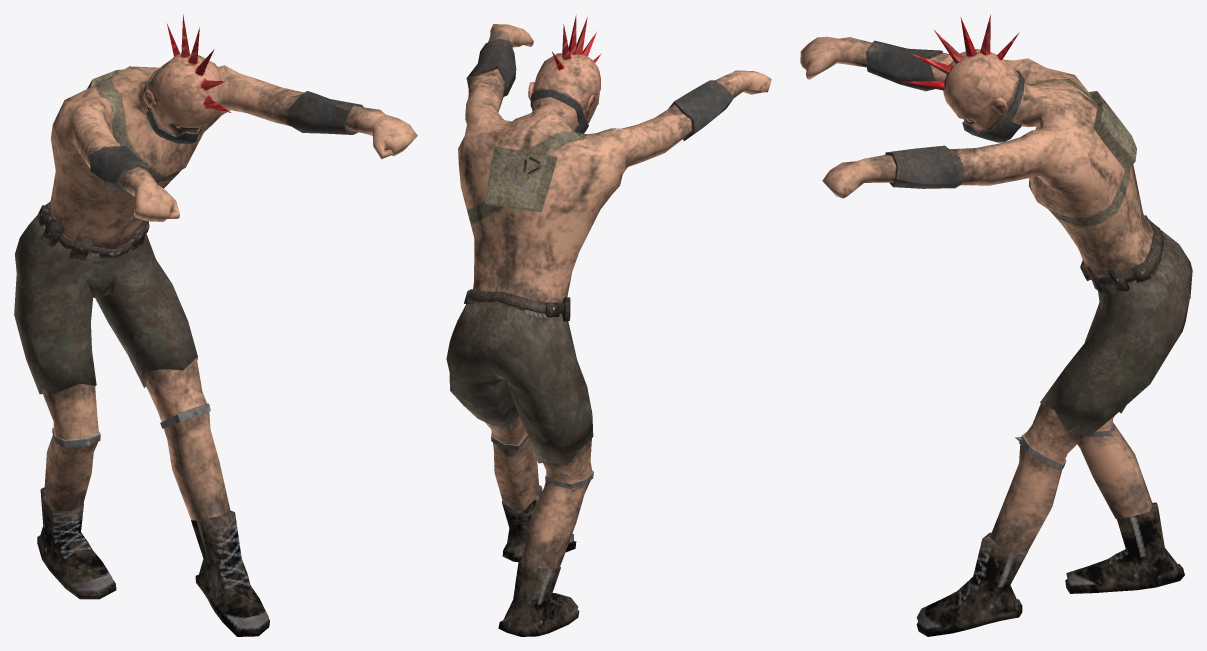
The model's file is Anim_ataque_d3_npc2.0044.obj.
The picture shows the model from 3 angles, left to right: view 1: azimuth 30°, elevation 25°; view 2: azimuth 150°, elevation 25°; view 3: azimuth 270°, elevation 25°; orthographic projection. The views are drawn at different scales.
Visible parts, largest first — view 1: polySurface1; view 2: polySurface1; view 3: polySurface1.
Part boxes in pixels (x1,y1,x2,y2): polySurface1: (14, 14, 417, 636); polySurface1: (446, 14, 771, 636); polySurface1: (800, 15, 1192, 636).
Bounding box in the file's own units: 4.58 × 9.03 × 5.36.
